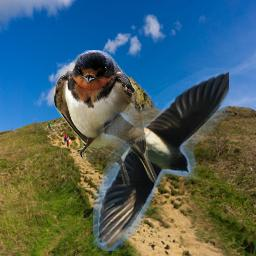Swallow: (93, 68, 229, 251), (54, 50, 157, 185)
